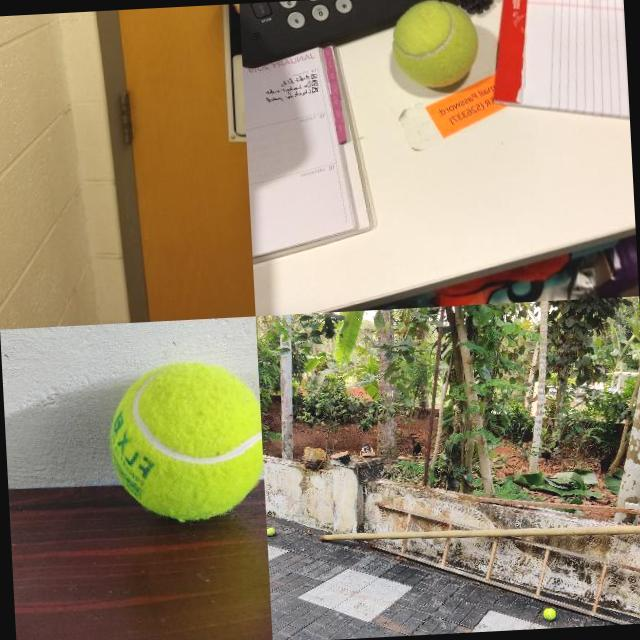Tennis Ball: (105, 358, 266, 527), (390, 0, 483, 90), (542, 607, 556, 620), (268, 527, 276, 536)
